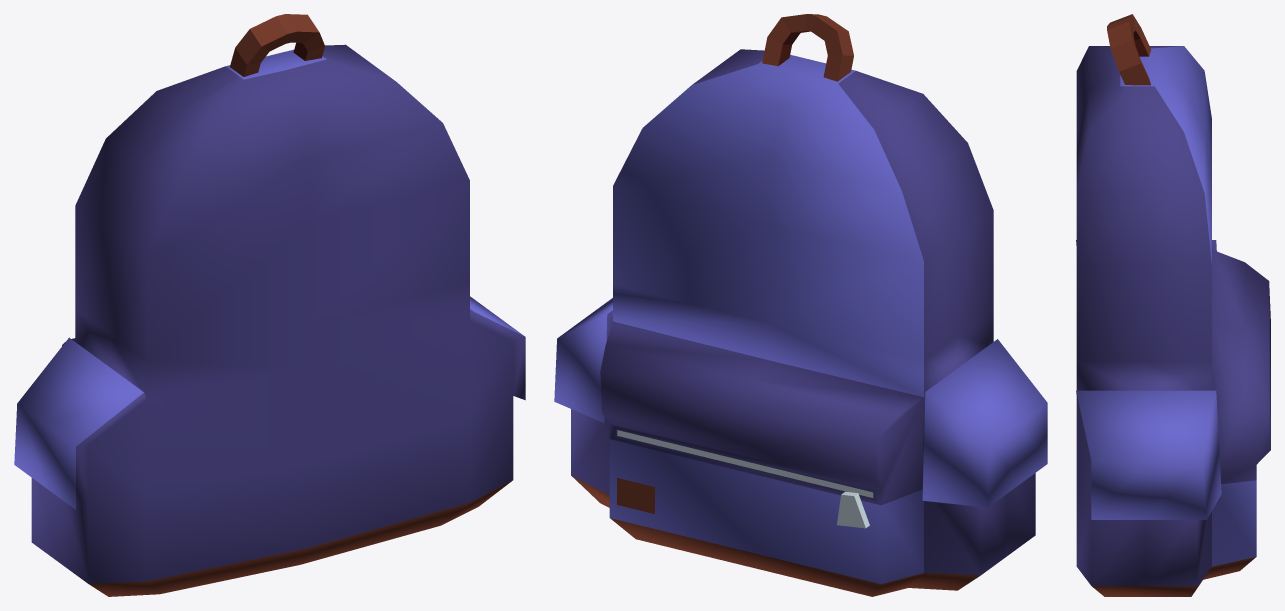
The model's file is modernBackpack.glb.
3 renders of one model, left to right at view 1: azimuth 30°, elevation 25°; view 2: azimuth 150°, elevation 25°; view 3: azimuth 270°, elevation 25°, orthographic. The views are drawn at different scales.
Visible parts, largest first — view 1: modernBackpack; view 2: modernBackpack; view 3: modernBackpack.
Part boxes in pixels (x1=…): modernBackpack: x1=14, y1=14, x2=525, y2=596; modernBackpack: x1=554, y1=14, x2=1047, y2=596; modernBackpack: x1=1076, y1=14, x2=1270, y2=596.
Size of the model in its own units: 0.9588 by 1.09 by 0.385.
